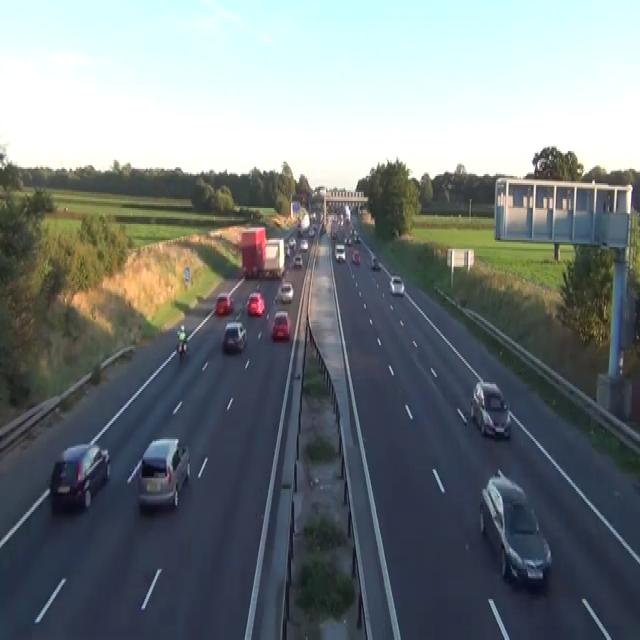Car: (479, 468, 552, 588), (50, 441, 110, 510), (134, 438, 190, 510), (470, 381, 511, 439), (222, 322, 247, 352), (271, 311, 291, 340), (245, 290, 264, 316), (214, 292, 233, 314), (277, 281, 293, 302), (389, 276, 404, 295), (177, 334, 187, 356), (334, 244, 345, 262), (351, 249, 360, 265), (177, 323, 186, 338), (293, 254, 302, 267), (288, 236, 296, 249), (371, 256, 379, 268), (300, 238, 308, 249), (309, 210, 316, 222), (344, 235, 352, 245), (319, 224, 326, 235), (308, 226, 315, 236), (331, 229, 337, 240), (296, 224, 301, 236), (285, 245, 290, 256), (272, 293, 277, 304), (354, 233, 360, 242), (347, 237, 352, 246)
Truck: (237, 226, 284, 279)
